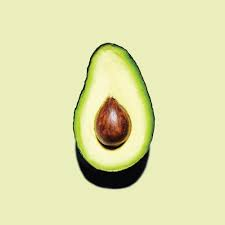avocado: (73, 42, 155, 173)
